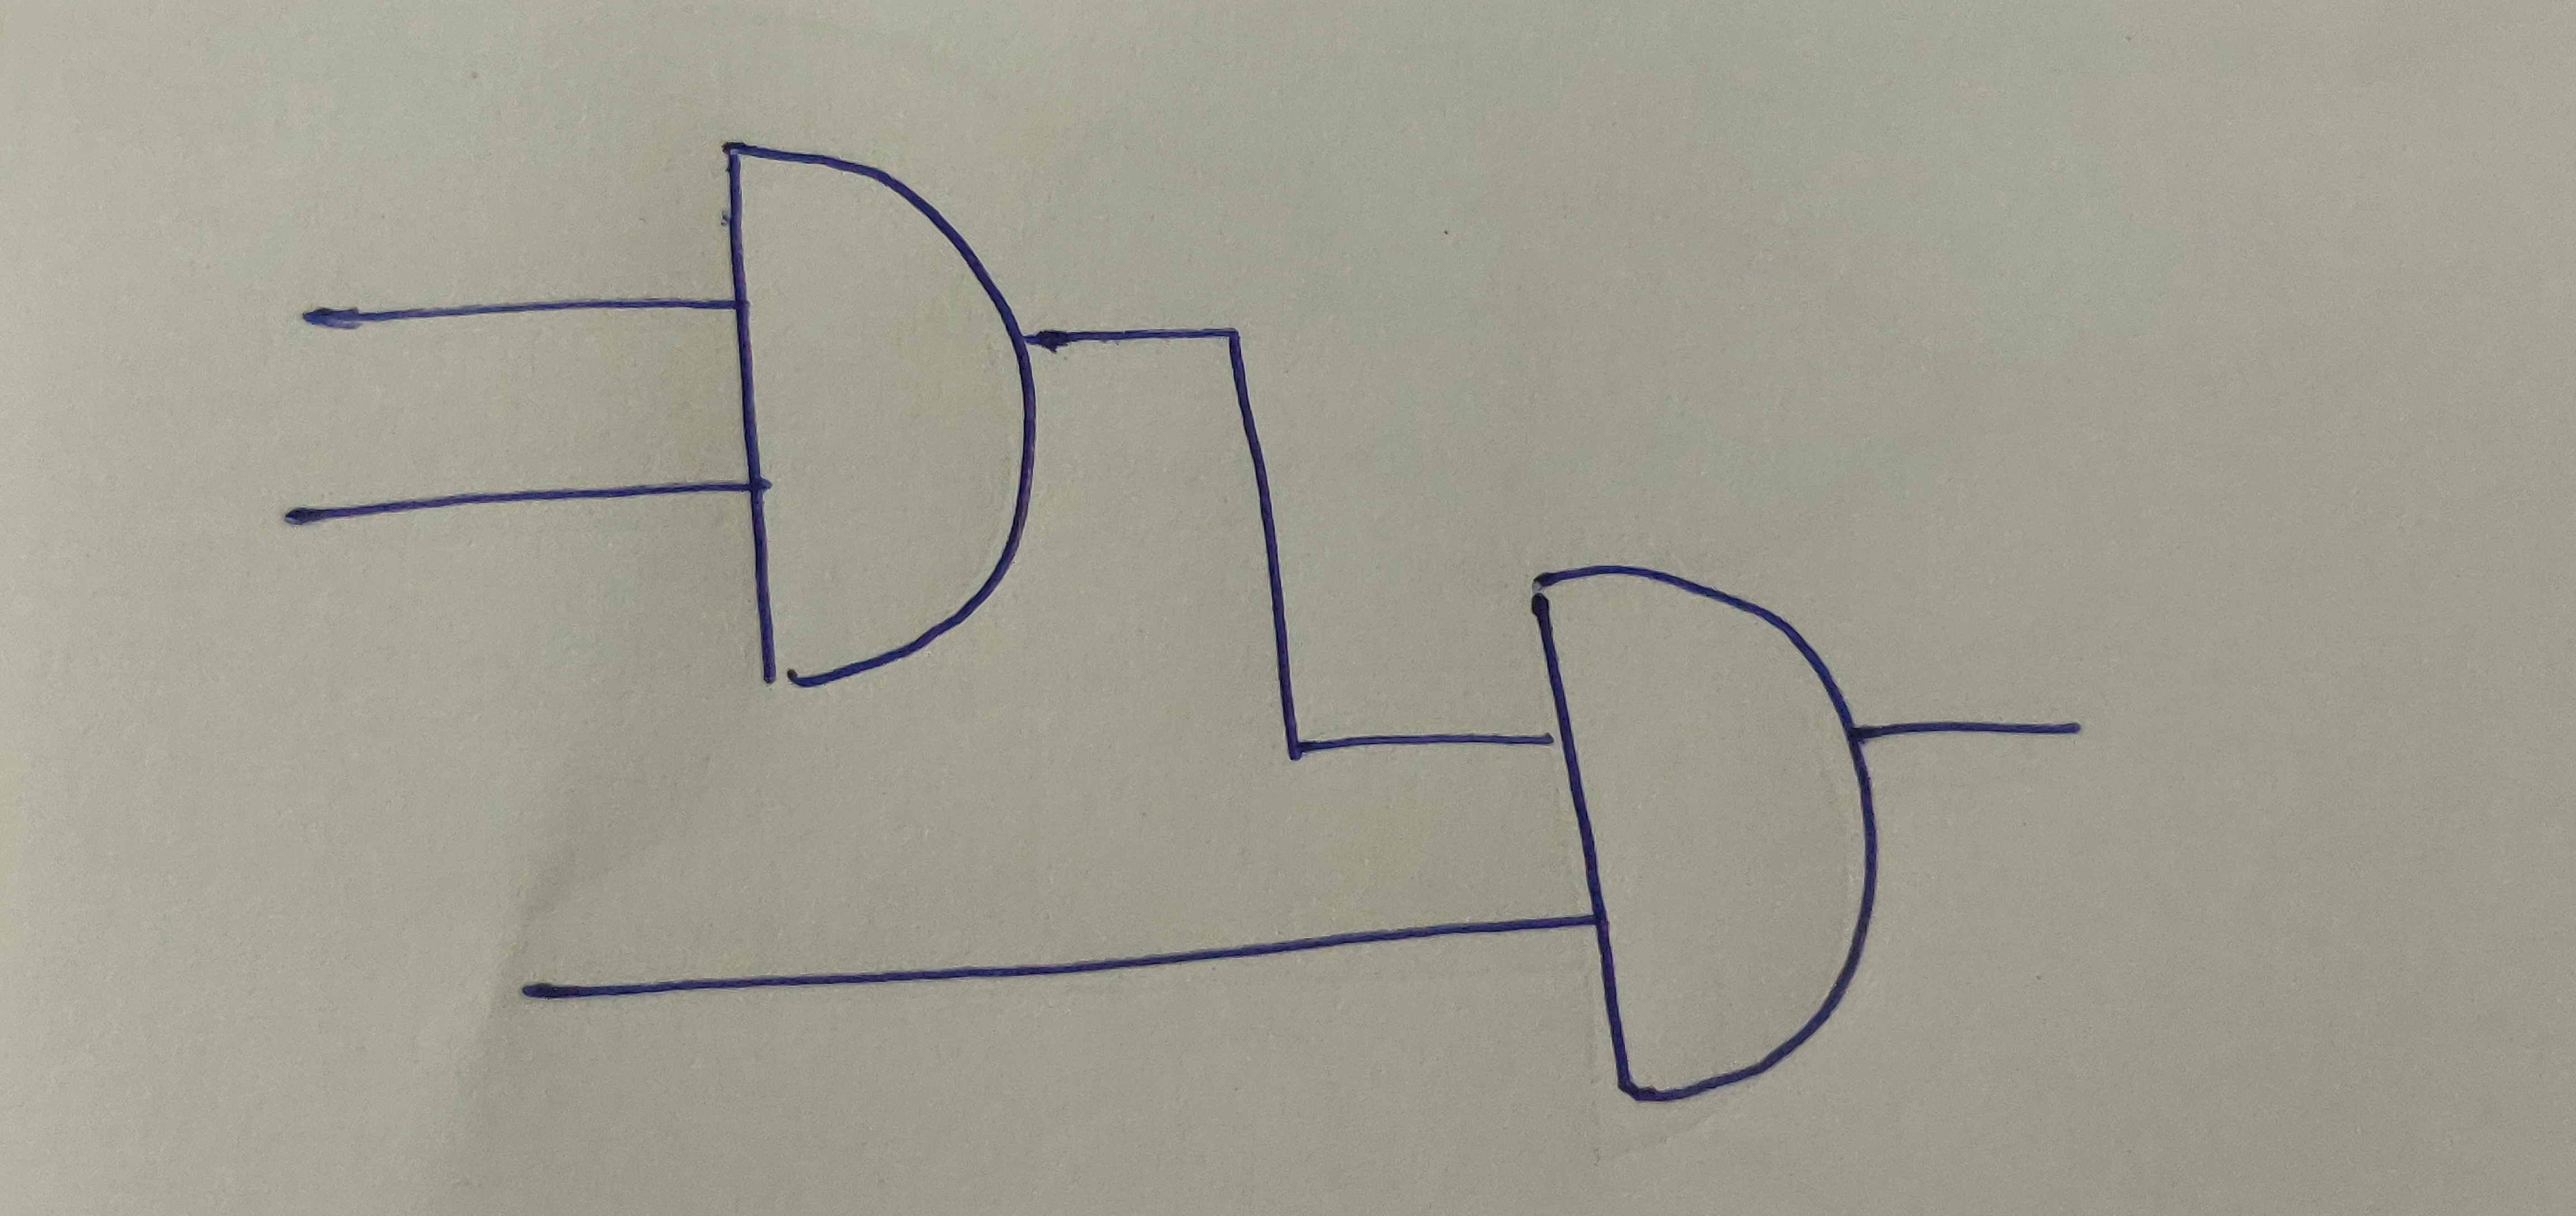and: (1513, 569, 1876, 1103), (724, 135, 1038, 687)
